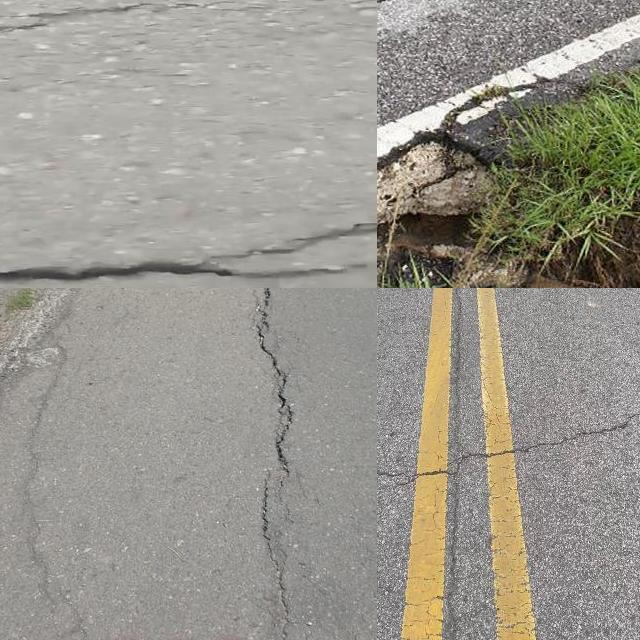Melintang: (0, 213, 377, 288), (468, 411, 640, 466), (0, 0, 165, 44), (377, 459, 465, 490)
Memanjang: (245, 288, 320, 640)
Pinggir: (377, 108, 640, 288)
